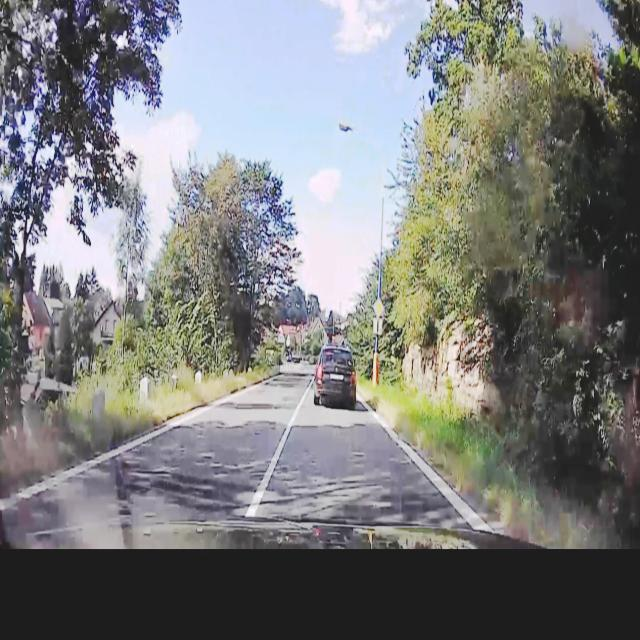Priority road: (372, 296, 384, 322)
